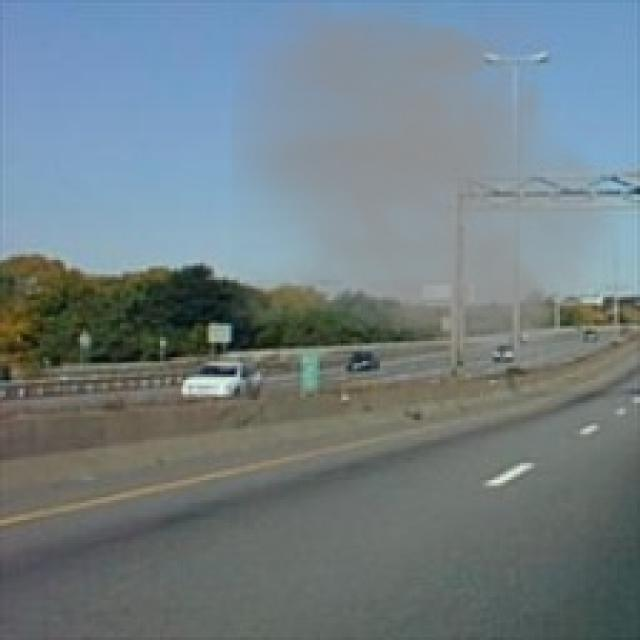Smoke: (232, 0, 634, 369)
